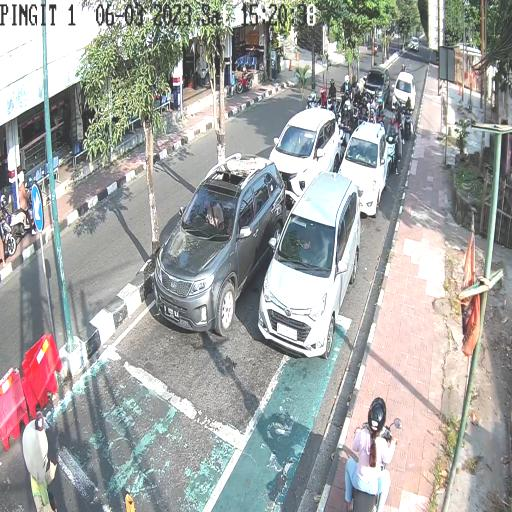mobil: (152, 151, 287, 339), (258, 170, 360, 362), (269, 107, 340, 202), (338, 121, 387, 219), (362, 65, 391, 111), (394, 71, 418, 116)
motor: (385, 133, 399, 176), (338, 120, 349, 160), (404, 108, 414, 140)
